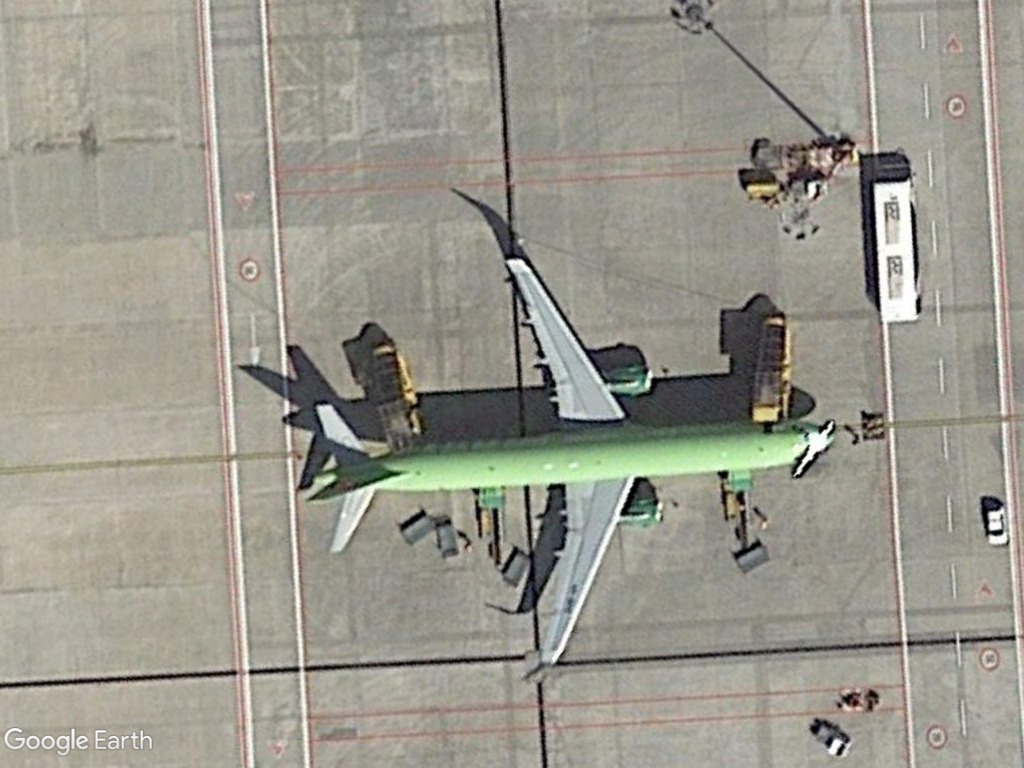airliner: (303, 249, 842, 689)
bus: (866, 171, 928, 332)
car: (981, 498, 1012, 551)
